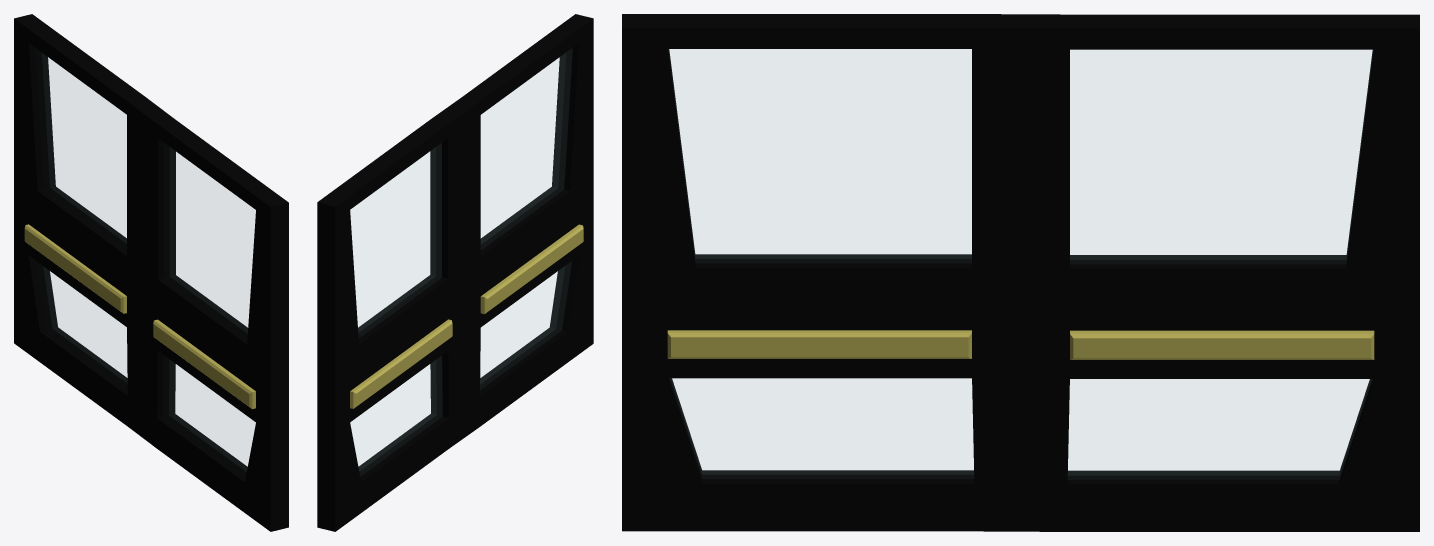
The model's file is model_OutsideDoor_basic.fbx.
The picture shows the model from 3 angles, left to right: view 1: azimuth 30°, elevation 25°; view 2: azimuth 150°, elevation 25°; view 3: azimuth 270°, elevation 25°; orthographic projection. The views are drawn at different scales.
Visible parts, largest first — view 1: SM_OutsideDoor; view 2: SM_OutsideDoor; view 3: SM_OutsideDoor.
Part boxes in pixels (bbox=[...]): SM_OutsideDoor: bbox=[14, 14, 288, 531]; SM_OutsideDoor: bbox=[317, 14, 593, 531]; SM_OutsideDoor: bbox=[622, 14, 1419, 531].
Size of the model in its own units: 0.7713 by 7.81 by 11.21.
